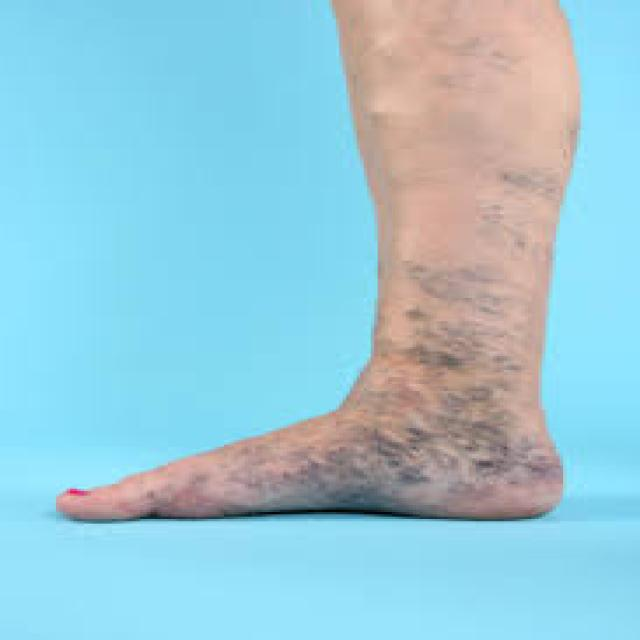Varicose: (256, 127, 597, 537)
